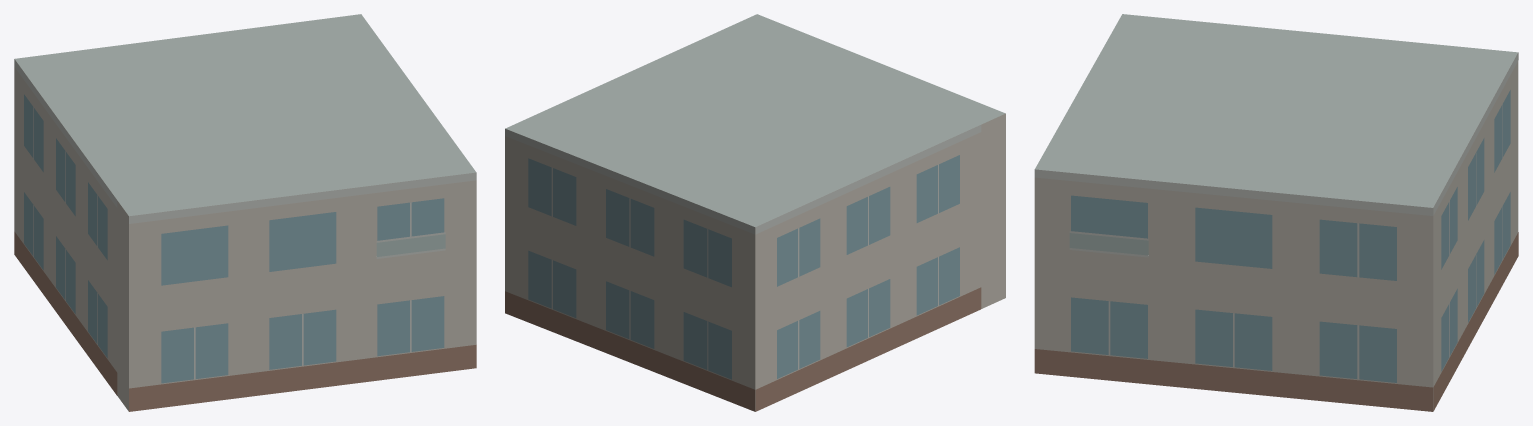
File: survey-upis-32537873.glb
3 views of the same model, side by side, from view 1: azimuth 30°, elevation 25°; view 2: azimuth 150°, elevation 25°; view 3: azimuth 270°, elevation 25° (orthographic). The views are drawn at different scales.
Visible parts, largest first — view 1: survey-upis-32537873.tmp; view 2: survey-upis-32537873.tmp; view 3: survey-upis-32537873.tmp.
Boxes of the visible parts, x1=… form: survey-upis-32537873.tmp: x1=14, y1=14, x2=476, y2=411; survey-upis-32537873.tmp: x1=505, y1=14, x2=1005, y2=411; survey-upis-32537873.tmp: x1=1034, y1=14, x2=1518, y2=411.
Bounding box in the file's own units: 12.46 × 6.1 × 13.13.
